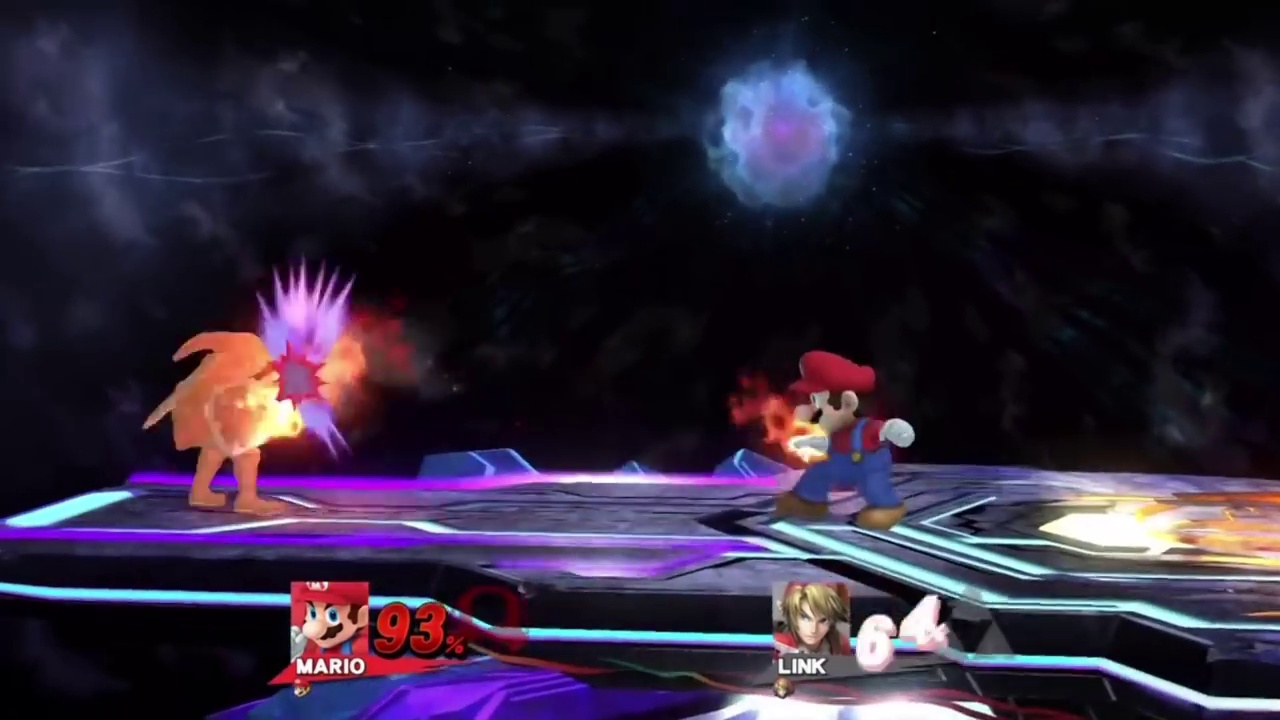Mario: (784, 351, 918, 529)
